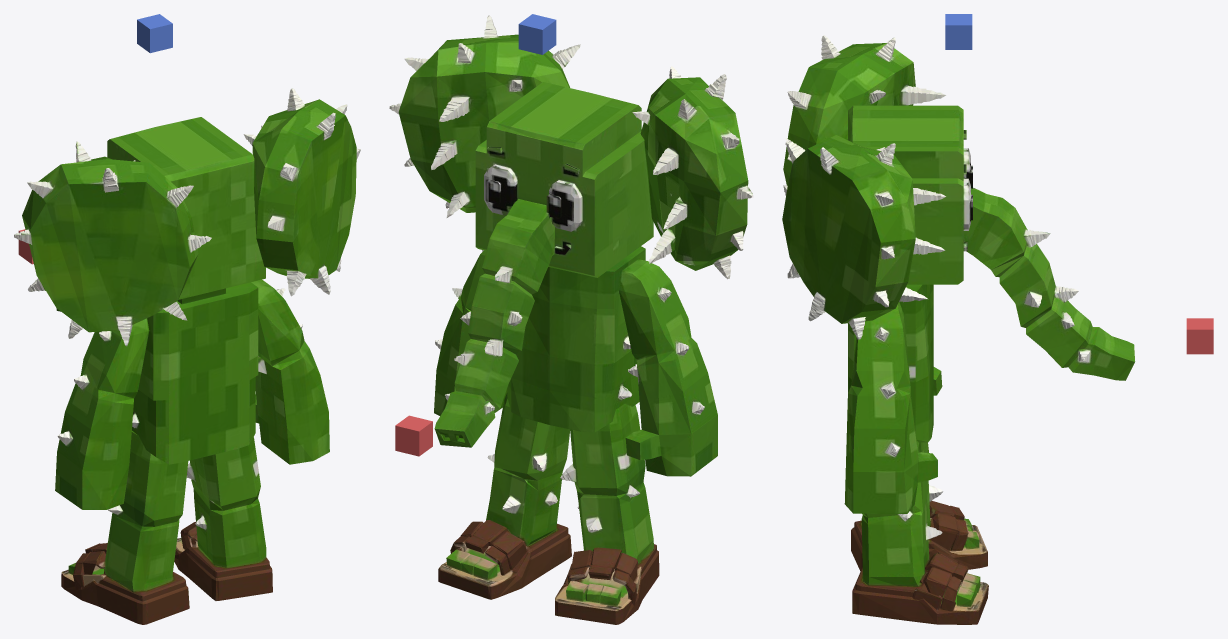
File: LiriliLarila.glb
3 renders of one model, left to right at view 1: azimuth 30°, elevation 25°; view 2: azimuth 150°, elevation 25°; view 3: azimuth 270°, elevation 25°, orthographic. The views are drawn at different scales.
Visible parts, largest first — view 1: LiriliLarila_Body, LiriliLarila_Leg2, LiriliLarila_Leg1, LiriliLarila_Top; view 2: LiriliLarila_Body, LiriliLarila_Leg1, LiriliLarila_Leg2, LiriliLarila_Top, LiriliLarila_Front; view 3: LiriliLarila_Body, LiriliLarila_Leg1, LiriliLarila_Leg2, LiriliLarila_Front, LiriliLarila_Top.
Part boxes in pixels (x1,y1,x2,y2): LiriliLarila_Body: (14,88,360,512); LiriliLarila_Leg2: (61,461,189,624); LiriliLarila_Leg1: (174,439,272,600); LiriliLarila_Top: (137,14,172,53); LiriliLarila_Body: (389,15,753,481); LiriliLarila_Leg1: (438,400,571,599); LiriliLarila_Leg2: (555,429,659,624); LiriliLarila_Top: (518,14,556,54); LiriliLarila_Front: (395,415,432,456); LiriliLarila_Body: (782,35,1135,513); LiriliLarila_Leg1: (852,442,988,624); LiriliLarila_Leg2: (851,442,987,571); LiriliLarila_Front: (1186,318,1213,354); LiriliLarila_Top: (945,14,972,49).
Bounding box in the file's own units: 3.79 × 5.72 × 3.98.
Materials: 1 (1 with a texture image).
